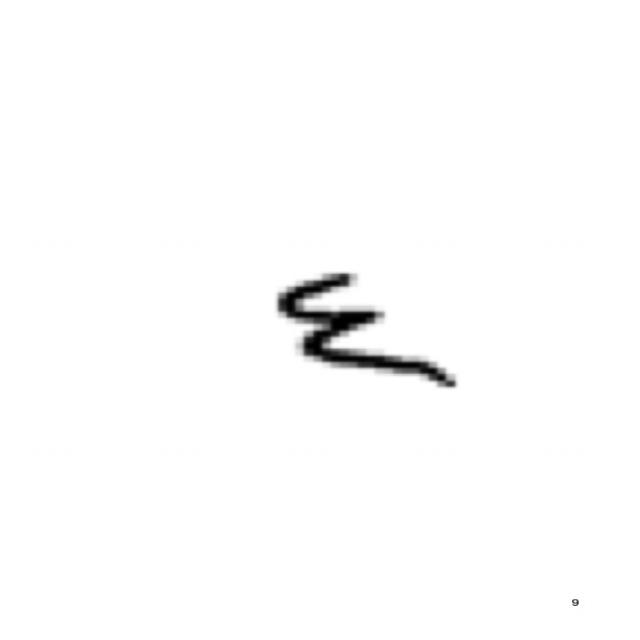4 -four-: (261, 262, 478, 398)
